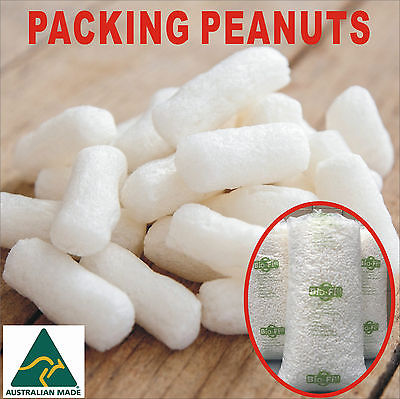Nonrec_Plastic: (6, 69, 395, 343), (276, 216, 378, 389), (5, 235, 134, 347), (123, 49, 296, 128), (167, 122, 319, 186), (65, 140, 124, 253)
